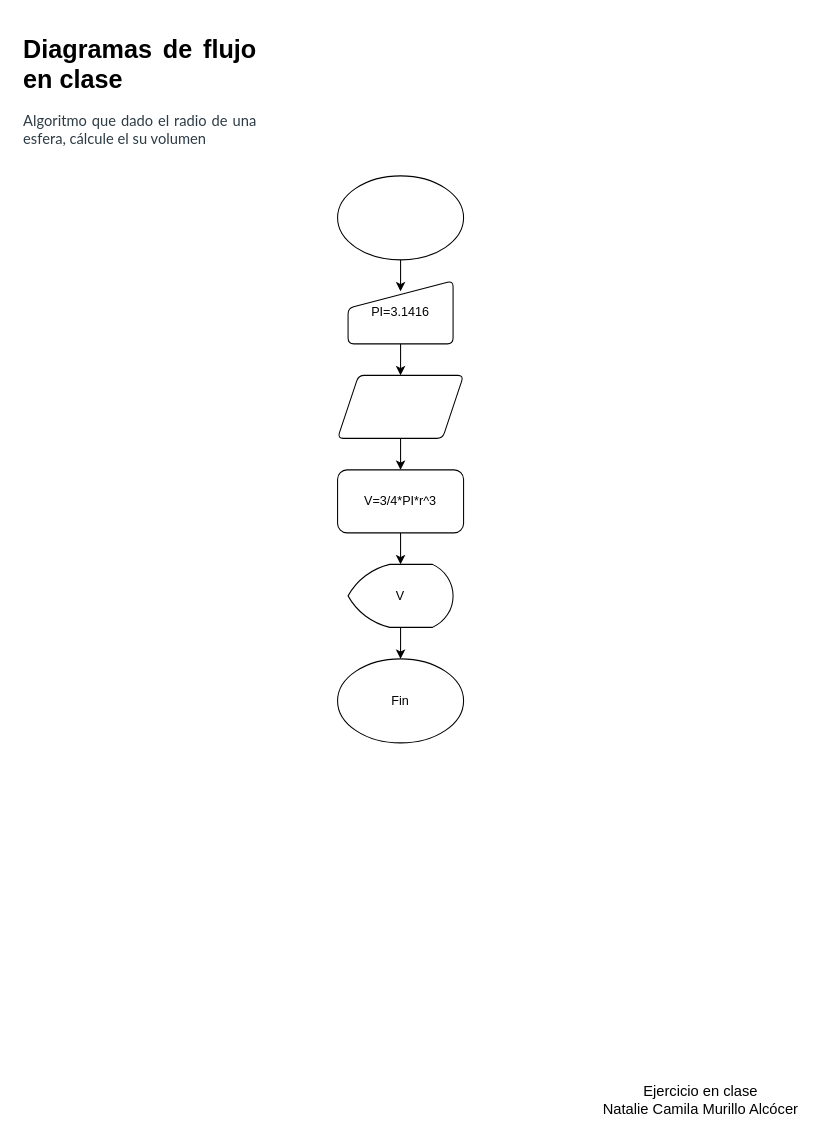
This 823x1135 diagram has some shape labels left out. Here are the shapes that lost their labels. From the top down, the box of each, then its label:
(337, 175, 464, 260): Inicio
(337, 374, 464, 438): Leer r
